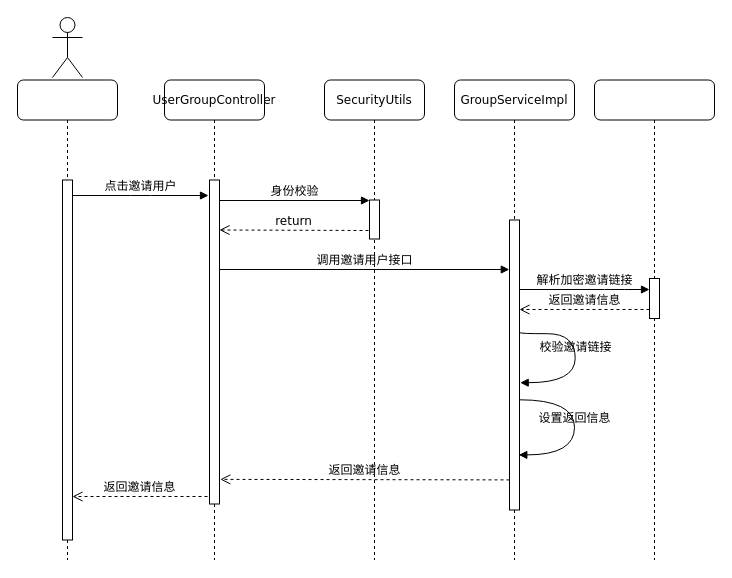
This 732x578 diagram has some shape labels left out. The shapes that lost their labels are listed below. From the top down, each one's box as (x1, y1, x2, y2) in pixels, then its label:
(16, 79, 118, 560): 用户
(594, 79, 714, 560): EncryptionUtils
